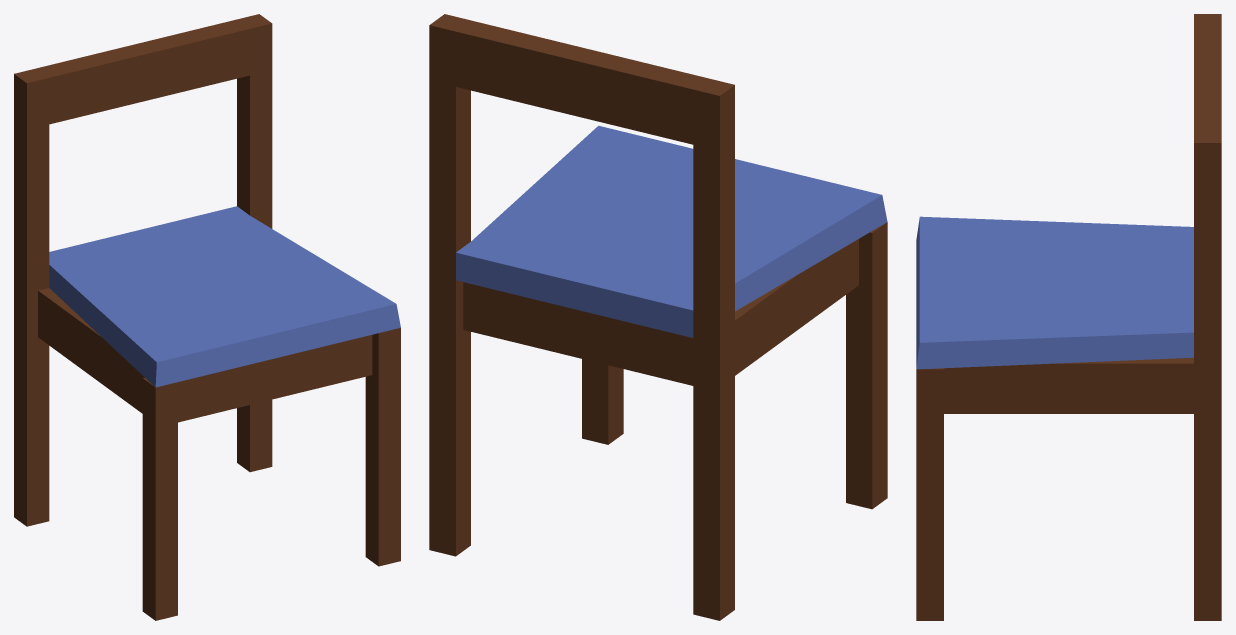
The model's file is Chair.obj.
The picture shows the model from 3 angles, left to right: view 1: azimuth 30°, elevation 25°; view 2: azimuth 150°, elevation 25°; view 3: azimuth 270°, elevation 25°; orthographic projection. The views are drawn at different scales.
Visible parts, largest first — view 1: cube; view 2: cube; view 3: cube.
Boxes of the visible parts, x1,y1,x2,y2 form: cube: (14, 14, 400, 620); cube: (429, 14, 887, 620); cube: (916, 14, 1221, 620).
Size of the model in its own units: 1.38 by 2.38 by 1.38.
